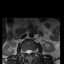CCS_normal: (27, 48, 30, 57)
LFS_normal: (32, 47, 34, 55)
LLS_normal: (30, 48, 32, 55)
RFS_normal: (23, 48, 25, 55)
RLS_normal: (25, 48, 27, 54)
